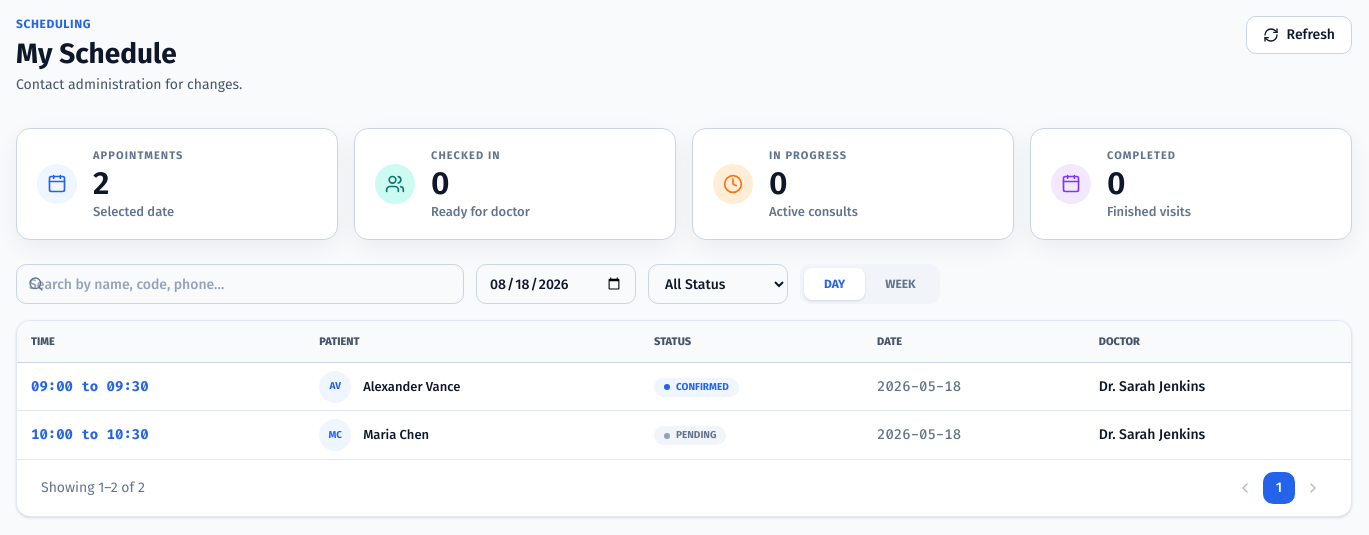
Test: DoctorSchedulePage › switches to week input when WEEK button is clicked
Expected: the text "Alexander Vance" is shown, [363,377,460,396]
Click the button "WEEK" at (900, 284), box [865,268,936,300]
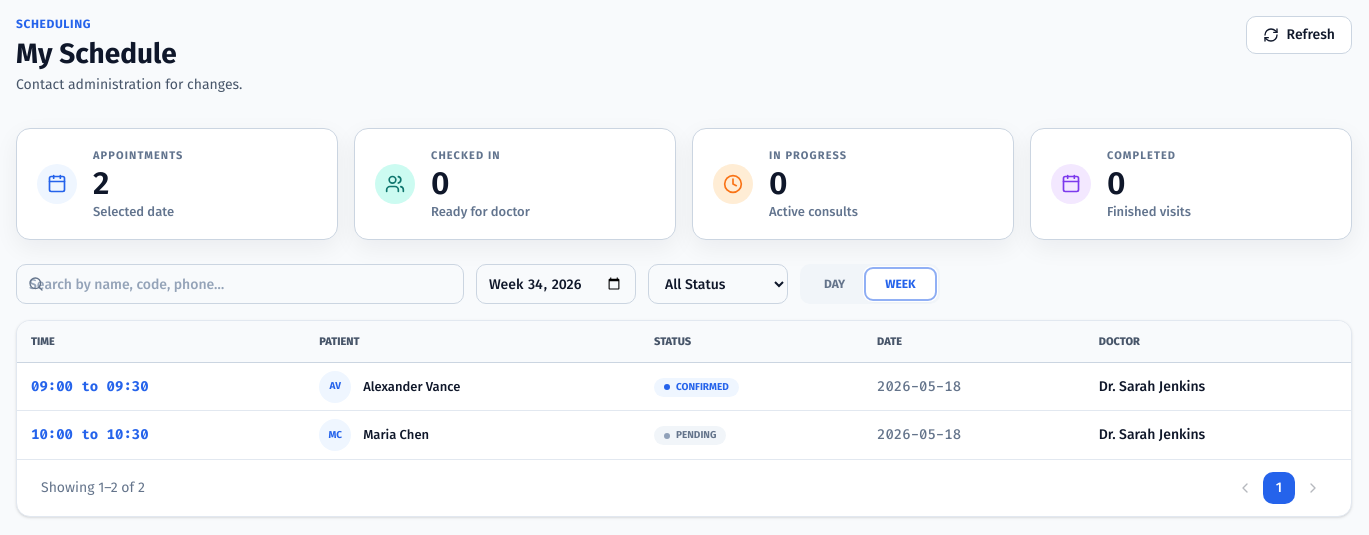
Expected: the field is shown, [476,264,636,304]
